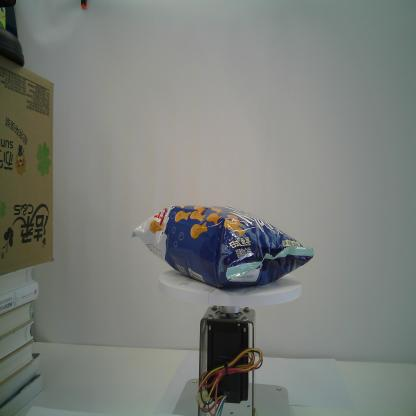Puffed Food: (130, 203, 315, 290)
